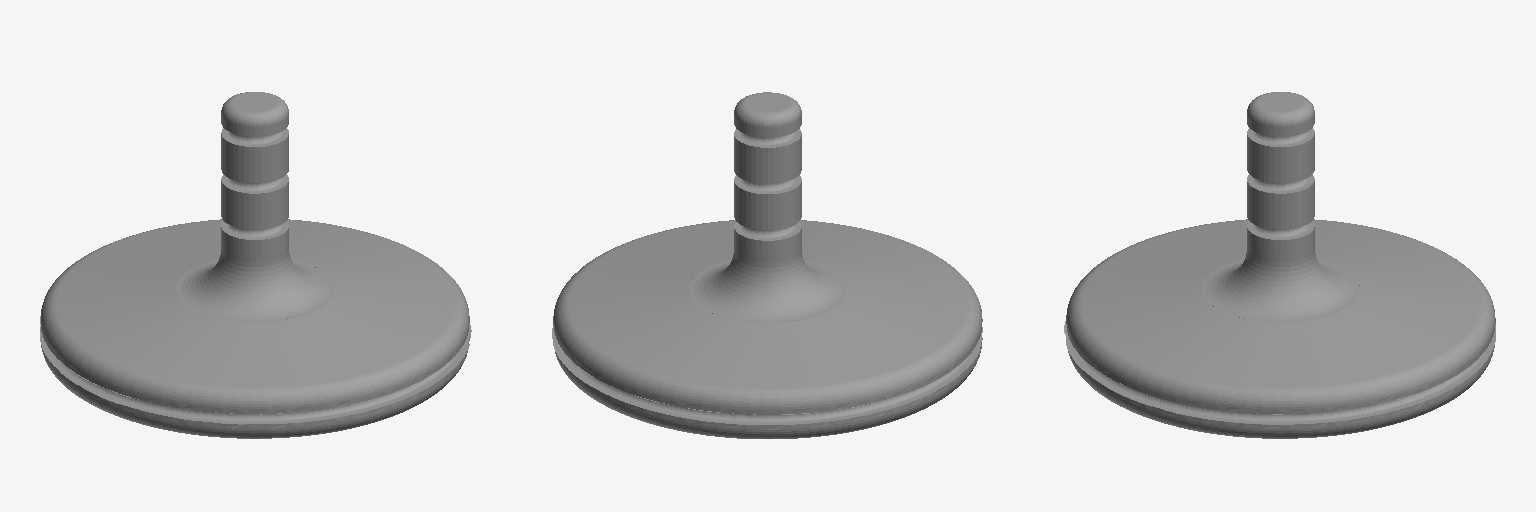
The model's file is body.obj.
The picture shows the model from 3 angles: view 1: azimuth 30°, elevation 25°; view 2: azimuth 150°, elevation 25°; view 3: azimuth 270°, elevation 25°; orthographic projection.
Parts seen in each view (by area): view 1: Spinning_Top.002; view 2: Spinning_Top.002; view 3: Spinning_Top.002.
Part boxes in pixels (left/top/right/bottom): Spinning_Top.002: left=40, top=92, right=471, bottom=438; Spinning_Top.002: left=552, top=92, right=982, bottom=438; Spinning_Top.002: left=1064, top=92, right=1495, bottom=438.
Bounding box in the file's own units: 2.07 × 1.62 × 2.08.